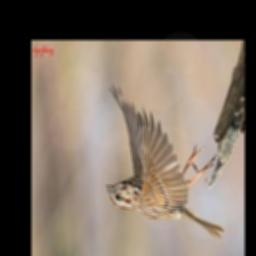Sparrow: (106, 82, 228, 251)
